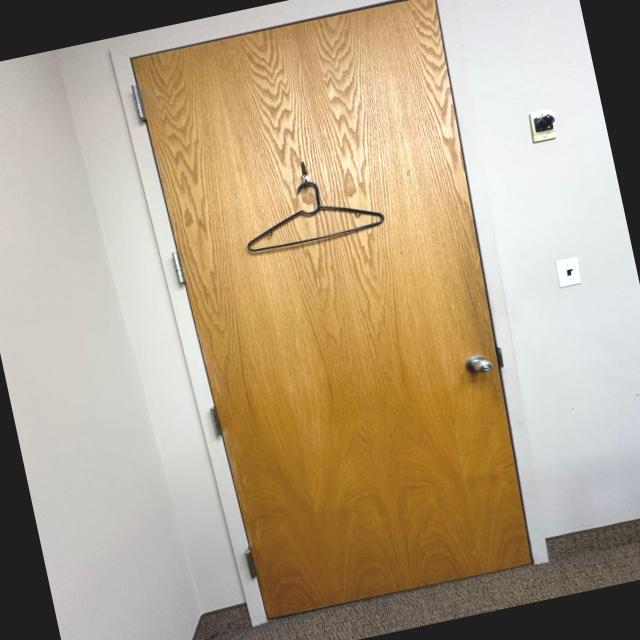door: (109, 0, 548, 625)
